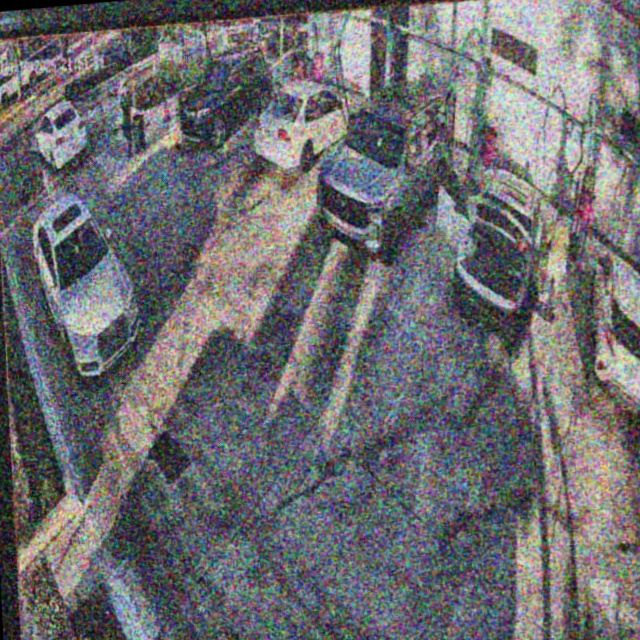Car: (313, 82, 457, 271), (442, 149, 550, 343), (255, 79, 359, 174)
